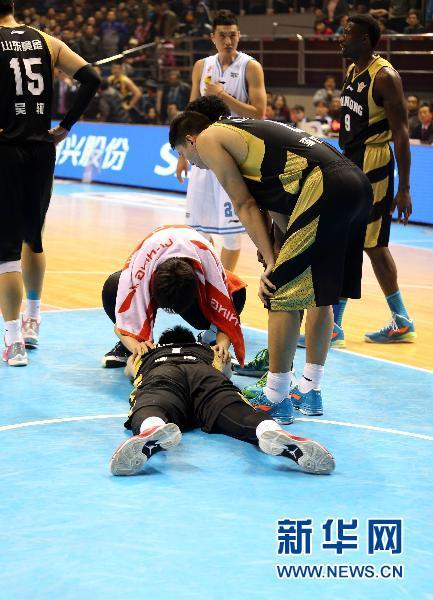bending: (177, 101, 365, 423), (94, 225, 251, 368)
down: (94, 319, 347, 483)
up: (1, 1, 105, 378), (321, 16, 426, 351), (169, 5, 260, 280)
